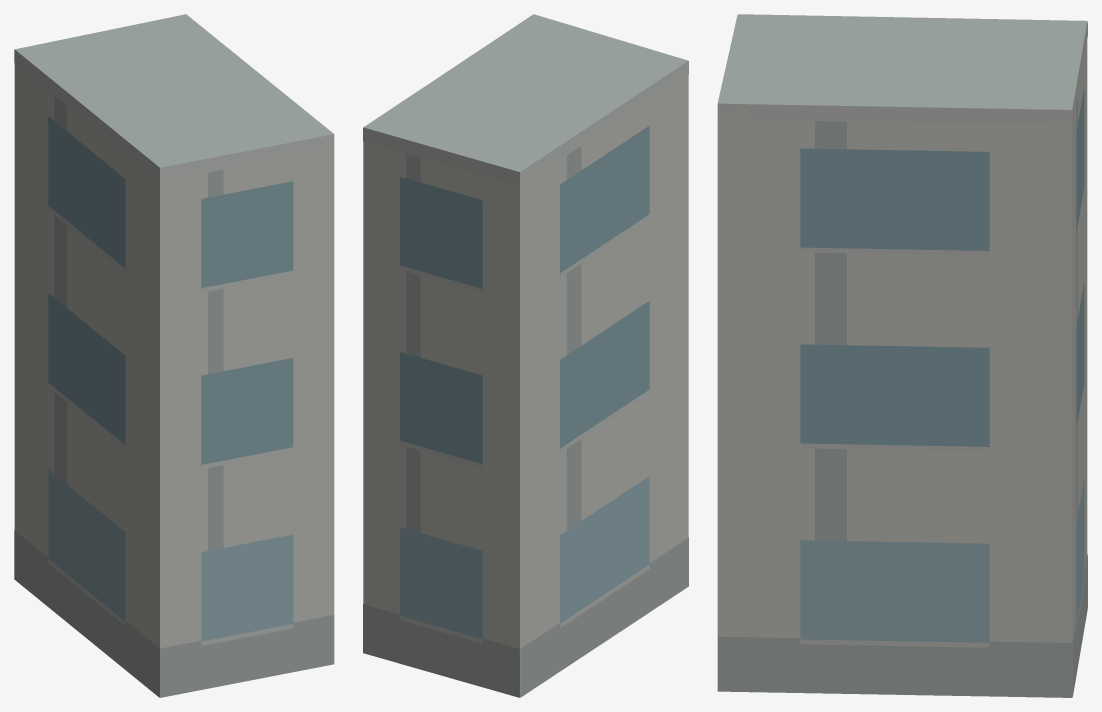
Rendered from survey-upis-32647951.glb.
3 renders of one model, left to right at view 1: azimuth 30°, elevation 25°; view 2: azimuth 150°, elevation 25°; view 3: azimuth 270°, elevation 25°, orthographic. The views are drawn at different scales.
Parts seen in each view (by area): view 1: survey-upis-32647951.tmp; view 2: survey-upis-32647951.tmp; view 3: survey-upis-32647951.tmp.
Boxes of the visible parts, box(x1,y1,x2,y2) form: survey-upis-32647951.tmp: box(14, 14, 334, 697); survey-upis-32647951.tmp: box(363, 14, 688, 697); survey-upis-32647951.tmp: box(717, 14, 1087, 697).
Size of the model in its own units: 3.21 by 9.15 by 5.23.
